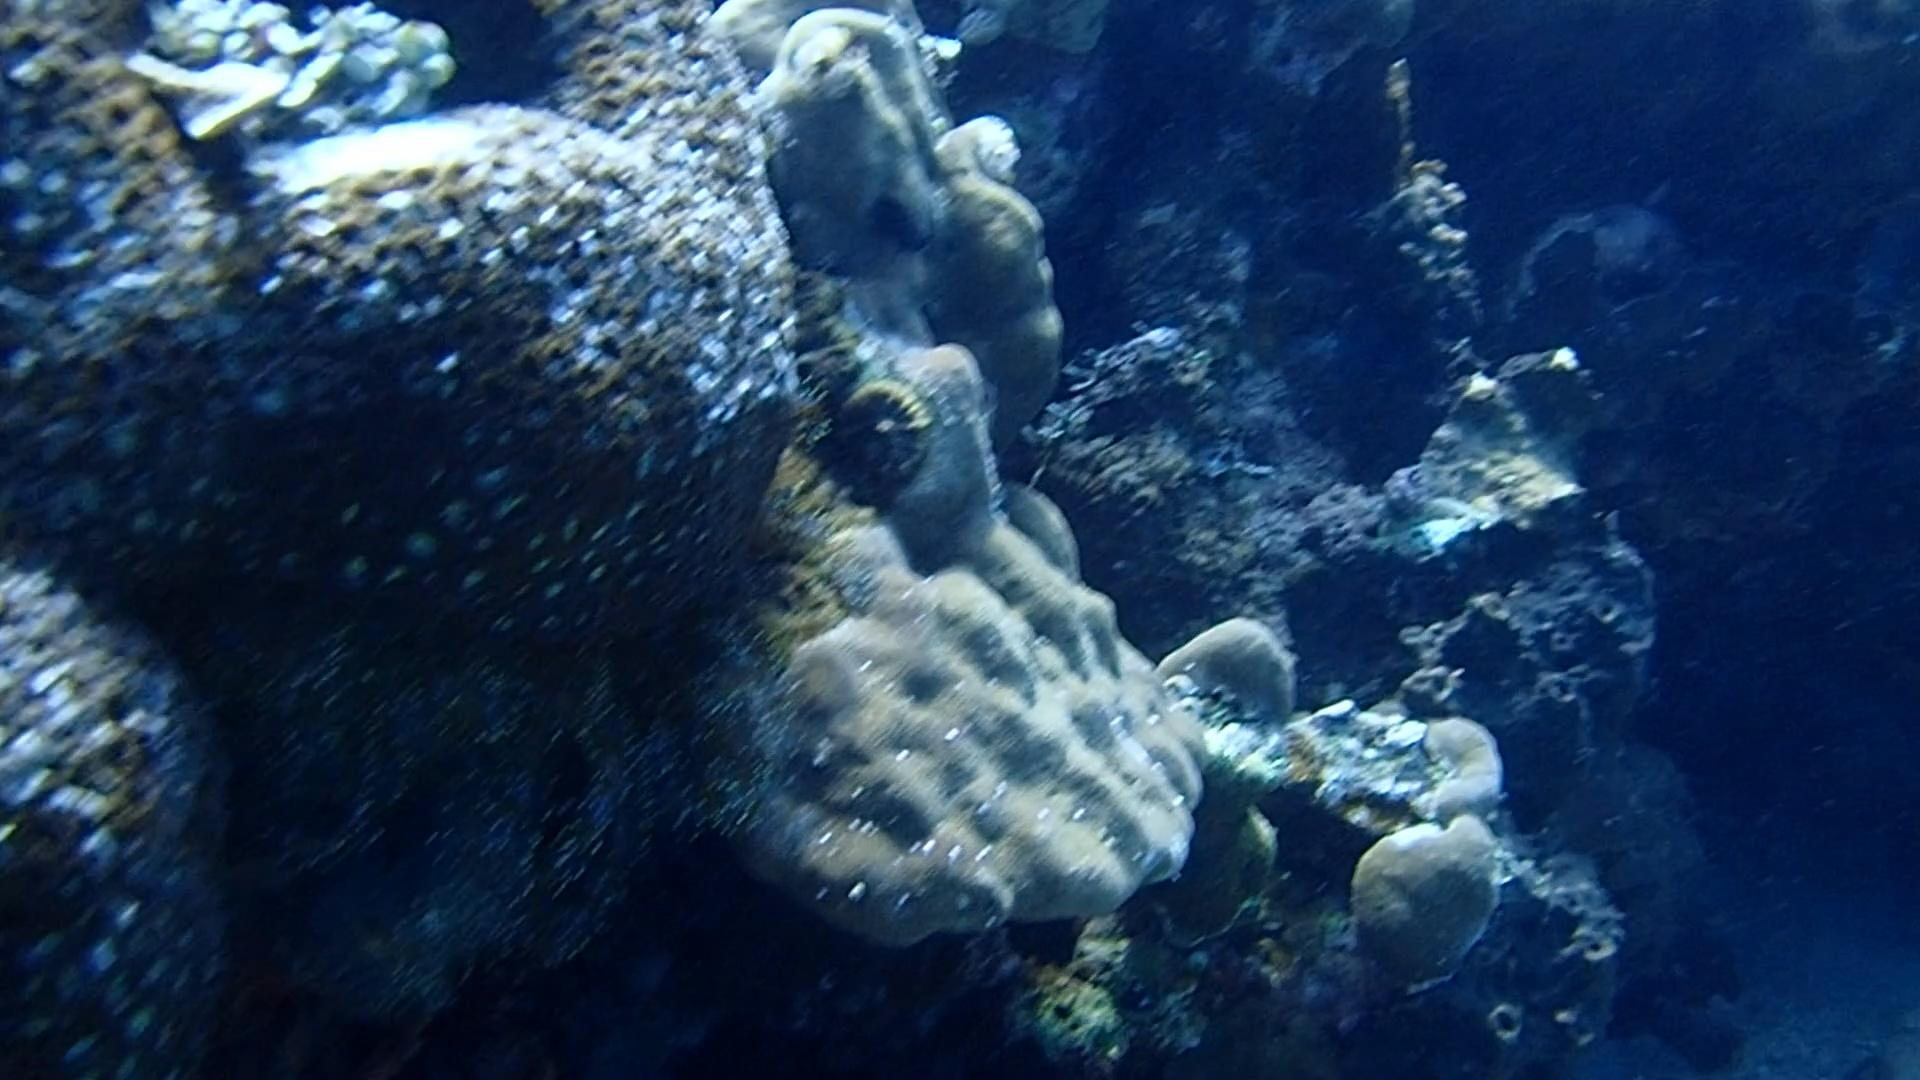Dark Fish: (1069, 373, 1174, 450), (857, 181, 936, 262)
